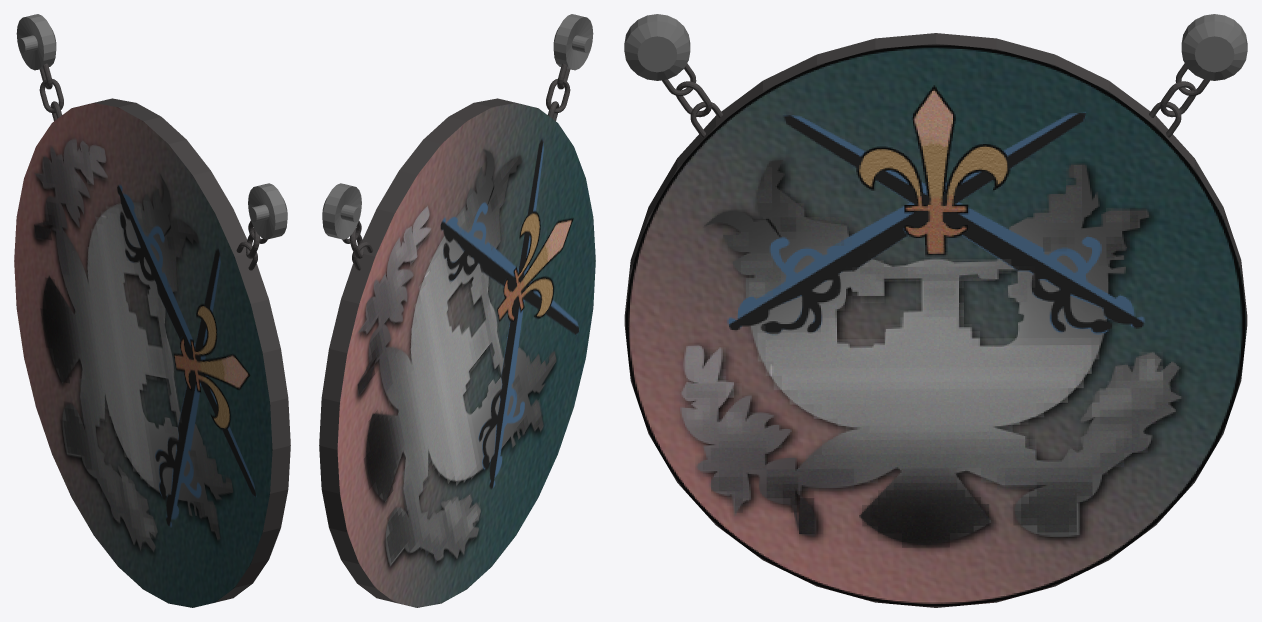
Rendered from SM_banner_eagle.fbx.
The picture shows the model from 3 angles, left to right: view 1: azimuth 30°, elevation 25°; view 2: azimuth 150°, elevation 25°; view 3: azimuth 270°, elevation 25°; orthographic projection. The views are drawn at different scales.
Visible parts, largest first — view 1: SM_banner_eagle; view 2: SM_banner_eagle; view 3: SM_banner_eagle.
Part boxes in pixels (x1,y1,x2,y2): SM_banner_eagle: (14,14,290,607); SM_banner_eagle: (319,14,595,607); SM_banner_eagle: (624,14,1247,607).
Bounding box in the file's own units: 28.94 × 507 × 489.
